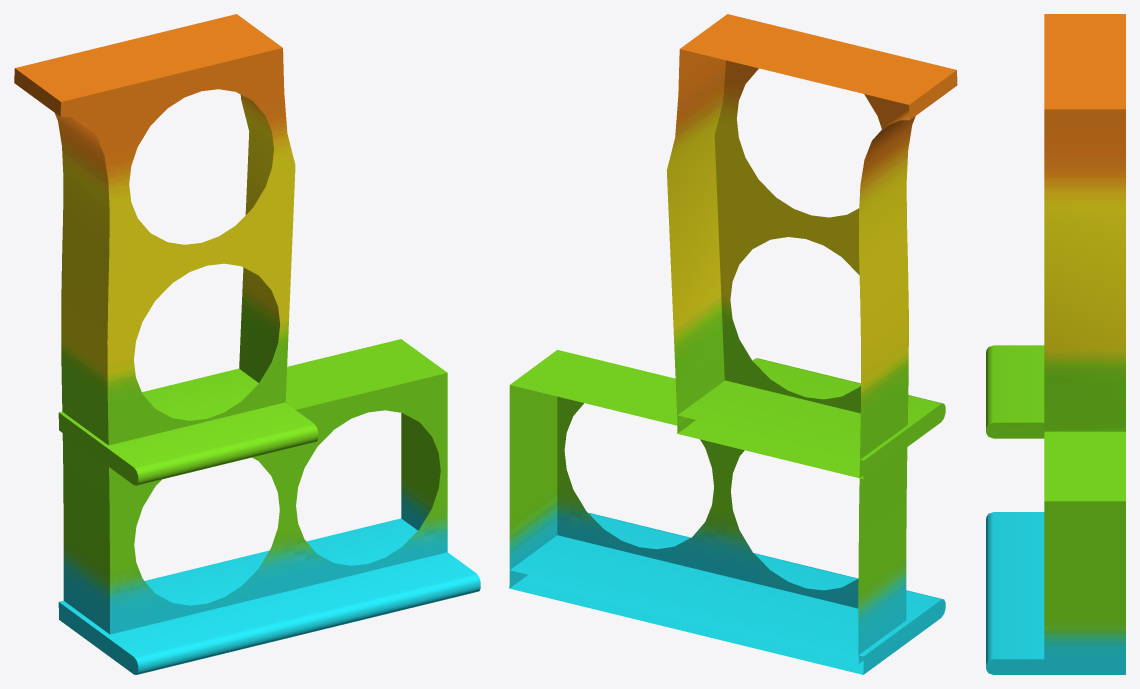
Rendered from AmongUs_Cut_07_0.FBX.
The picture shows the model from 3 angles, left to right: view 1: azimuth 30°, elevation 25°; view 2: azimuth 150°, elevation 25°; view 3: azimuth 270°, elevation 25°; orthographic projection. The views are drawn at different scales.
Parts seen in each view (by area): view 1: AmongUs_Cut_07_0; view 2: AmongUs_Cut_07_0; view 3: AmongUs_Cut_07_0.
Boxes of the visible parts, box(x1,y1,x2,y2) form: AmongUs_Cut_07_0: box(14, 14, 480, 674); AmongUs_Cut_07_0: box(509, 14, 957, 674); AmongUs_Cut_07_0: box(986, 14, 1125, 674).
Bounding box in the file's own units: 1.98 × 0.7024 × 2.74.
